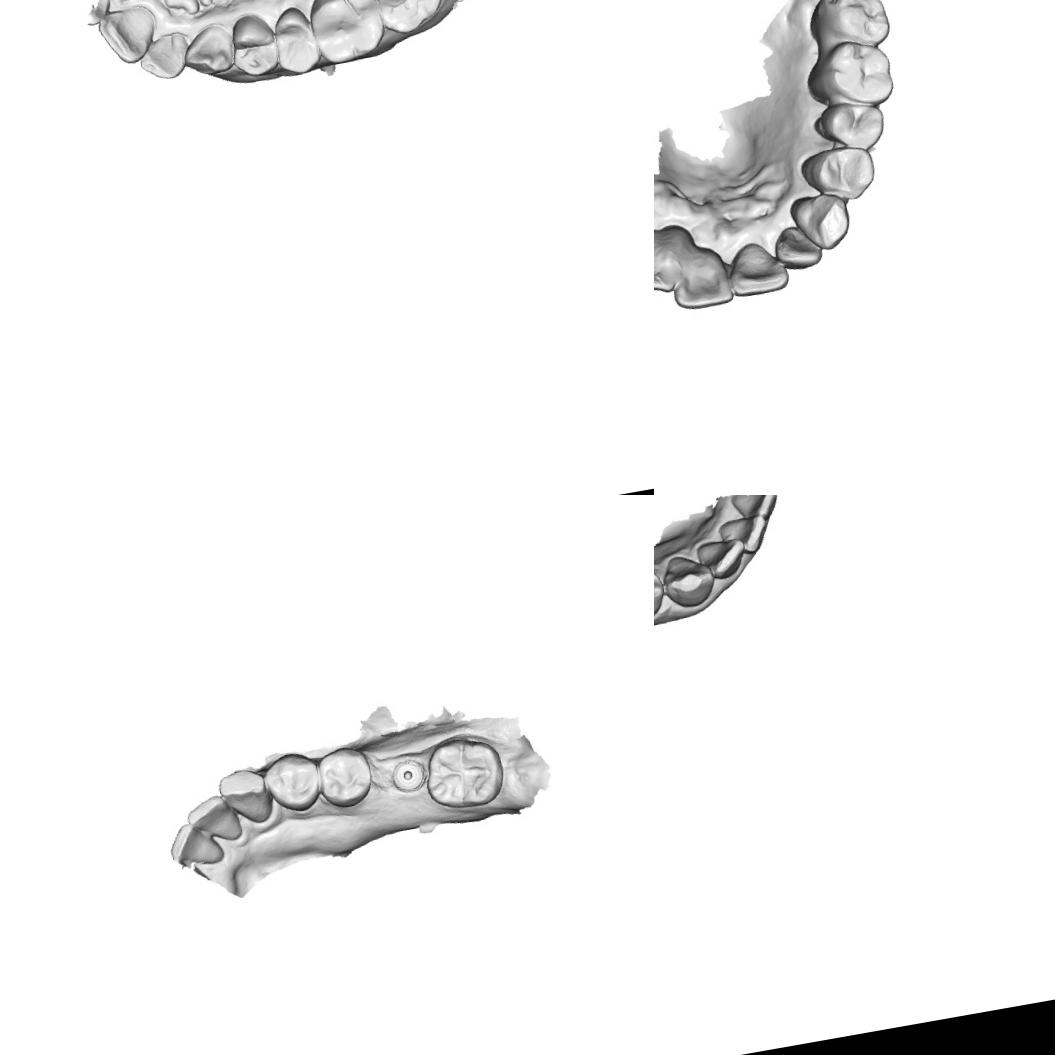canine: (786, 187, 858, 256), (213, 762, 278, 834), (175, 18, 241, 84), (656, 546, 718, 614)
implant: (384, 751, 432, 799)
incisor: (664, 242, 739, 315), (93, 0, 166, 68), (720, 235, 794, 301), (180, 790, 246, 851), (165, 814, 231, 875), (132, 25, 195, 84), (654, 221, 700, 299), (767, 218, 828, 274), (713, 507, 773, 561), (693, 529, 748, 584)
molar: (416, 728, 512, 816), (798, 32, 898, 116), (301, 0, 389, 68), (802, 0, 896, 56), (363, 0, 451, 40)
premolar: (796, 139, 880, 210), (810, 91, 890, 159), (258, 742, 326, 818), (312, 741, 378, 814), (222, 6, 284, 81), (266, 0, 322, 78), (654, 557, 667, 626)
